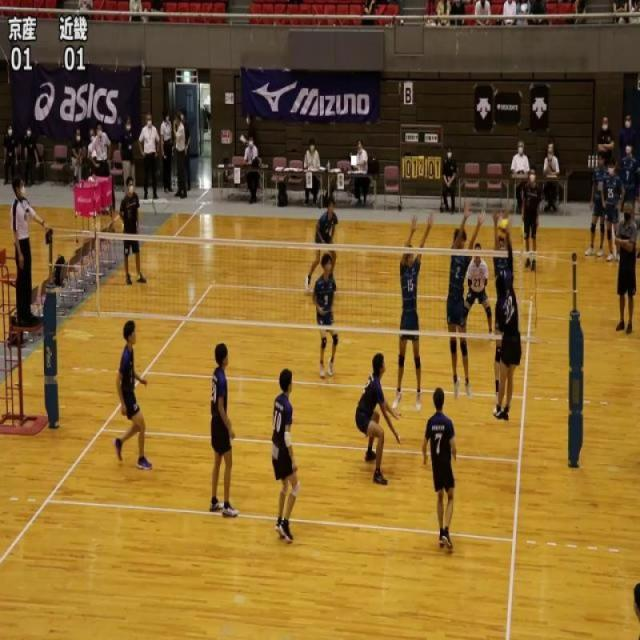volleyball: (496, 218, 508, 240)
